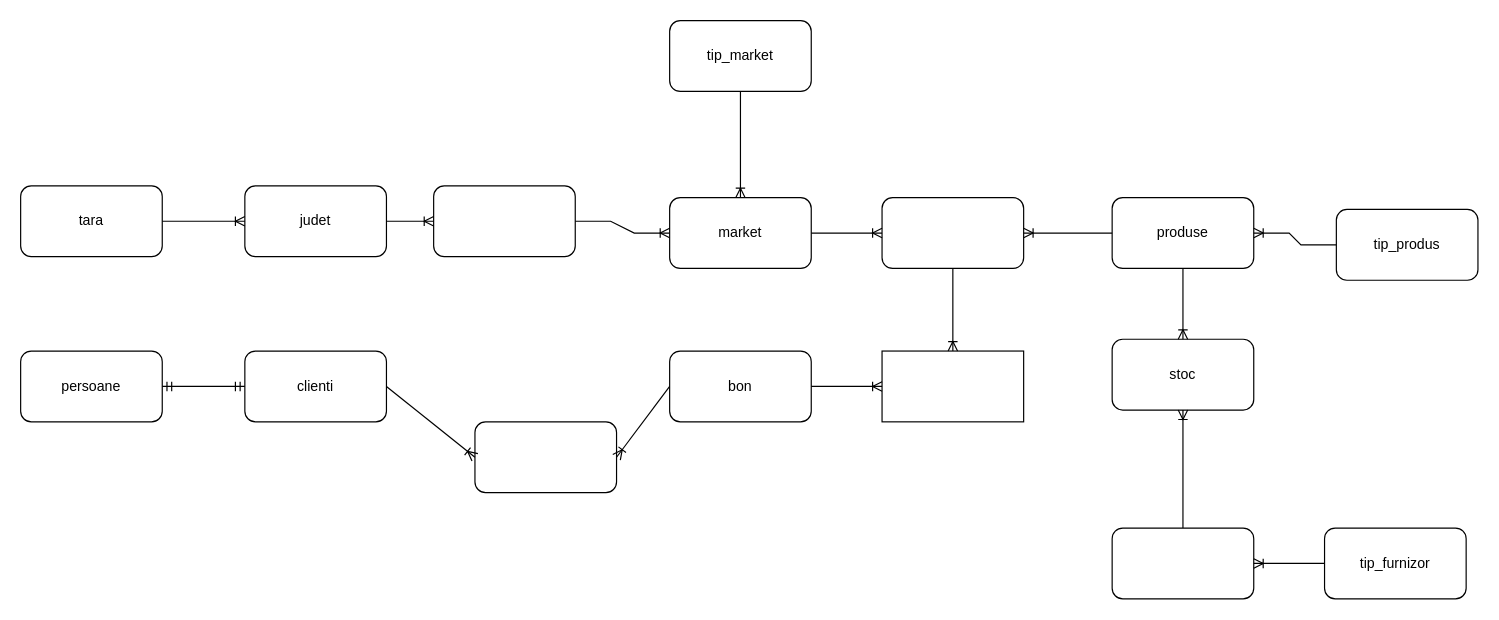
Some shapes in this 1499 by 620 pixel diagram are drawn without their labels. The centre of each missing label's shape, as x and y in pixels:
"clienti_vanzari" goes at (545,457).
"furnizor" goes at (1182,563).
"market_produse" goes at (952,232).
"produse_bon" goes at (952,386).
"uat" goes at (503,221).
